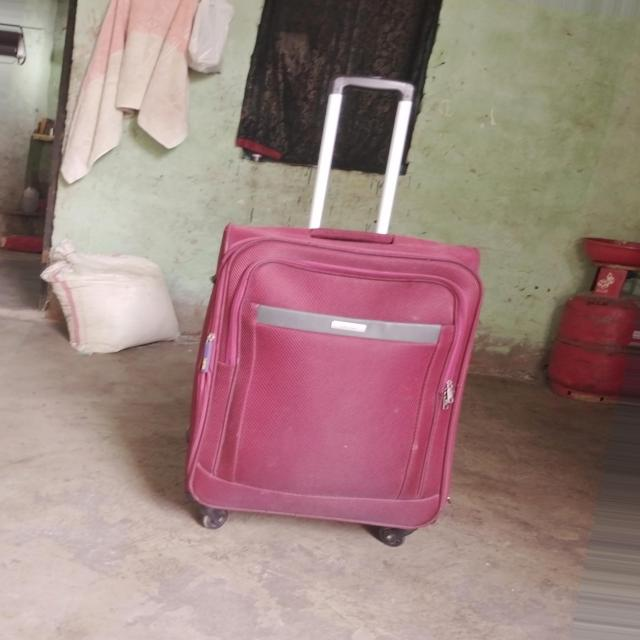Bag: (186, 57, 501, 546)
Handle: (283, 66, 428, 239)
